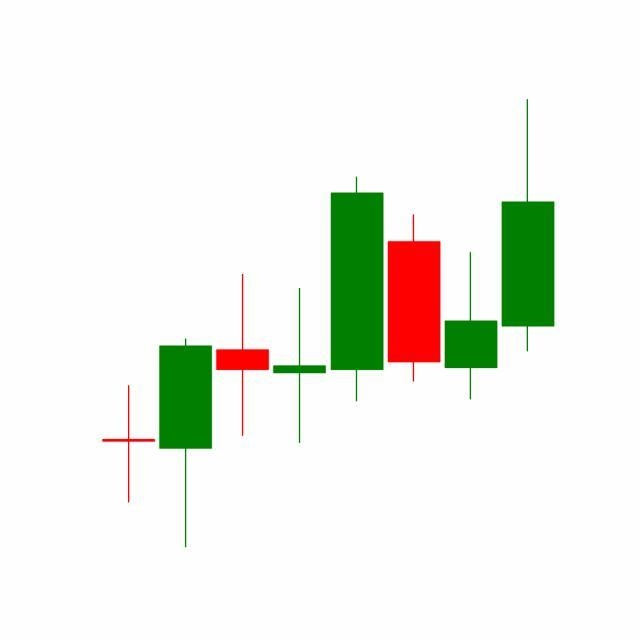Hikkake Pattern: (214, 175, 501, 447)
